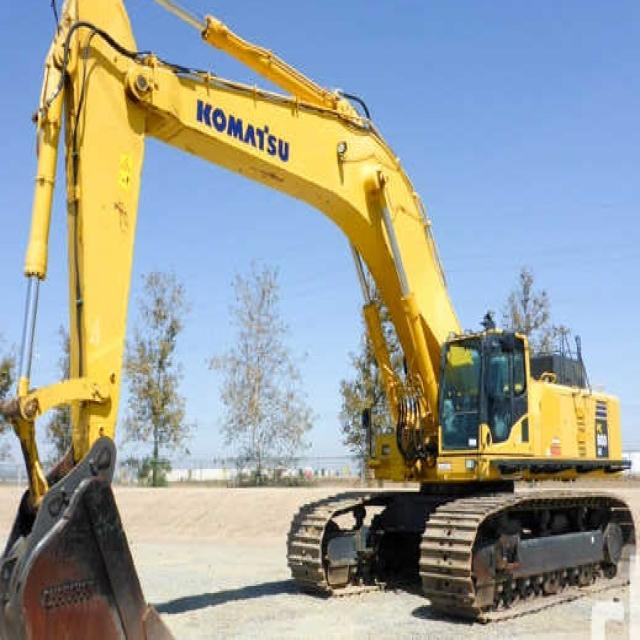excavator: (281, 301, 637, 605)
